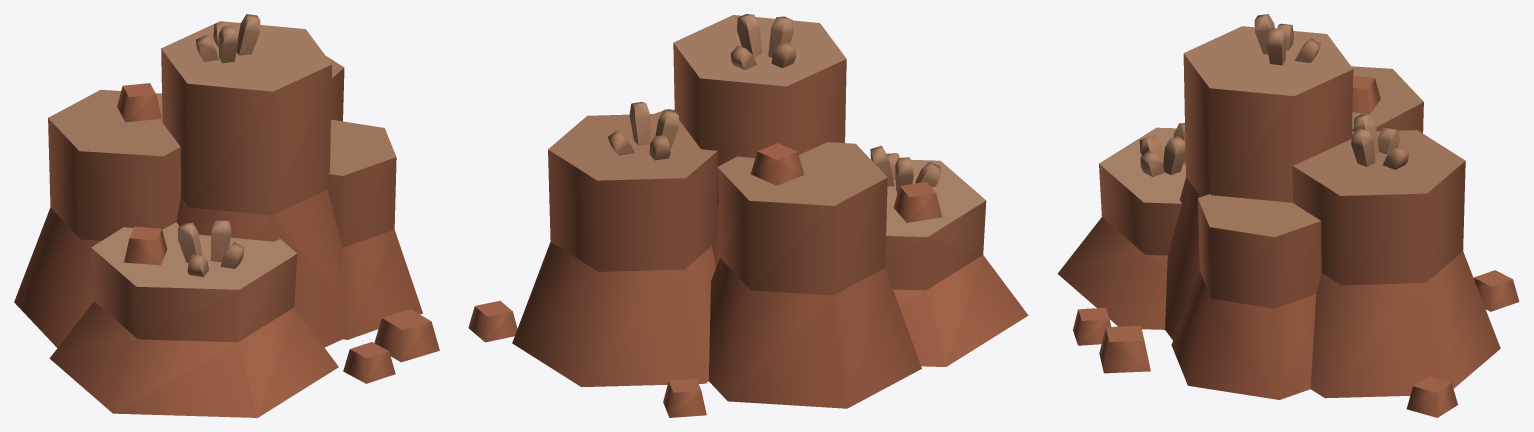
The model's file is pirate_rocks_sand_c.glb.
3 views of the same model, side by side, from view 1: azimuth 30°, elevation 25°; view 2: azimuth 150°, elevation 25°; view 3: azimuth 270°, elevation 25° (orthographic). The views are drawn at different scales.
Visible parts, largest first — view 1: pirate_rocks_sand_c; view 2: pirate_rocks_sand_c; view 3: pirate_rocks_sand_c.
Part boxes in pixels (bbox=[...]): pirate_rocks_sand_c: bbox=[14, 14, 439, 417]; pirate_rocks_sand_c: bbox=[468, 14, 1028, 417]; pirate_rocks_sand_c: bbox=[1057, 14, 1519, 417].
Size of the model in its own units: 3.71 by 2.61 by 3.72.
